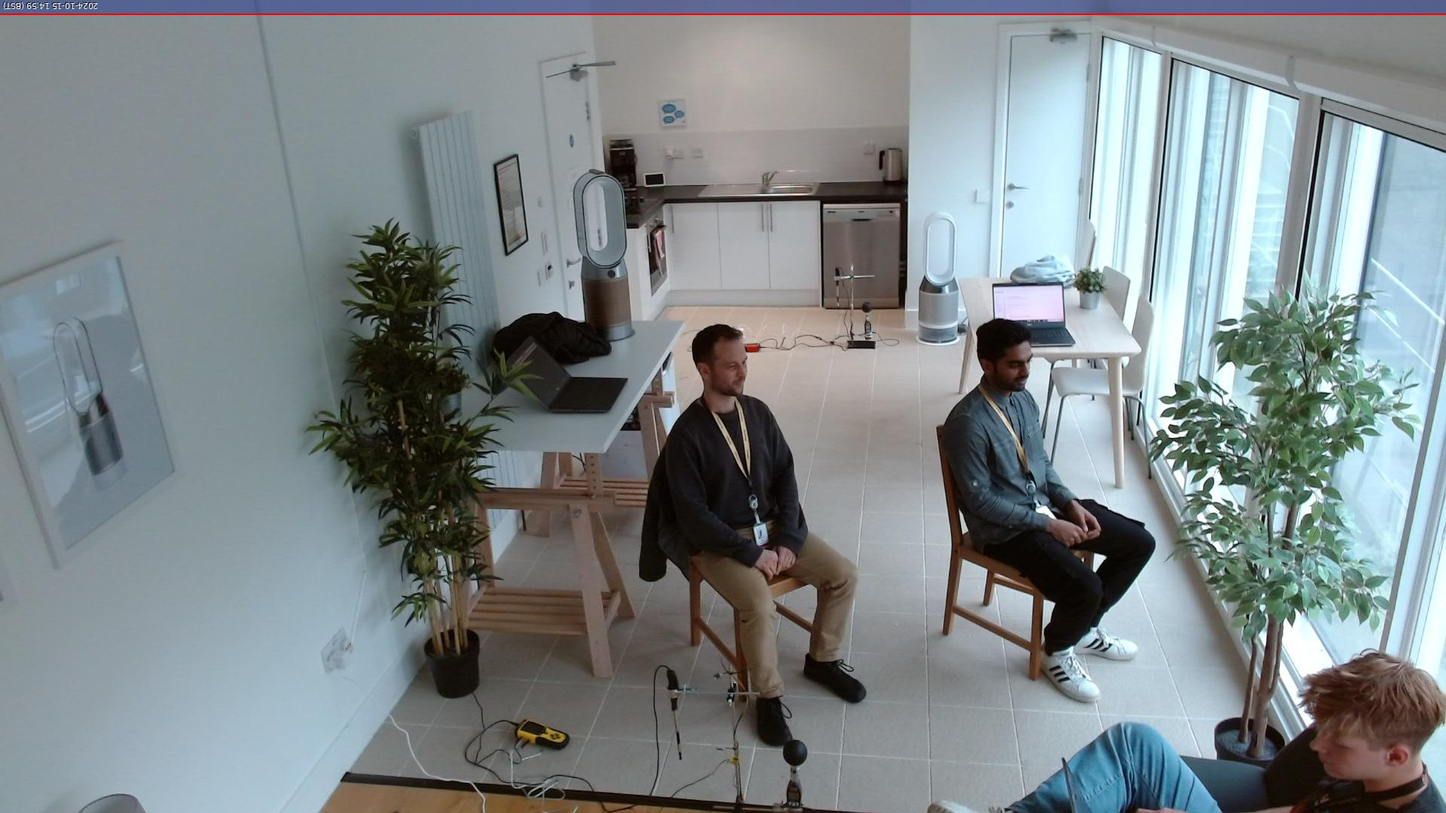long sleeve shirt: (944, 383, 1079, 546)
sweater: (663, 393, 808, 573)
trousers: (676, 522, 860, 697), (974, 498, 1157, 653), (998, 720, 1229, 812)
